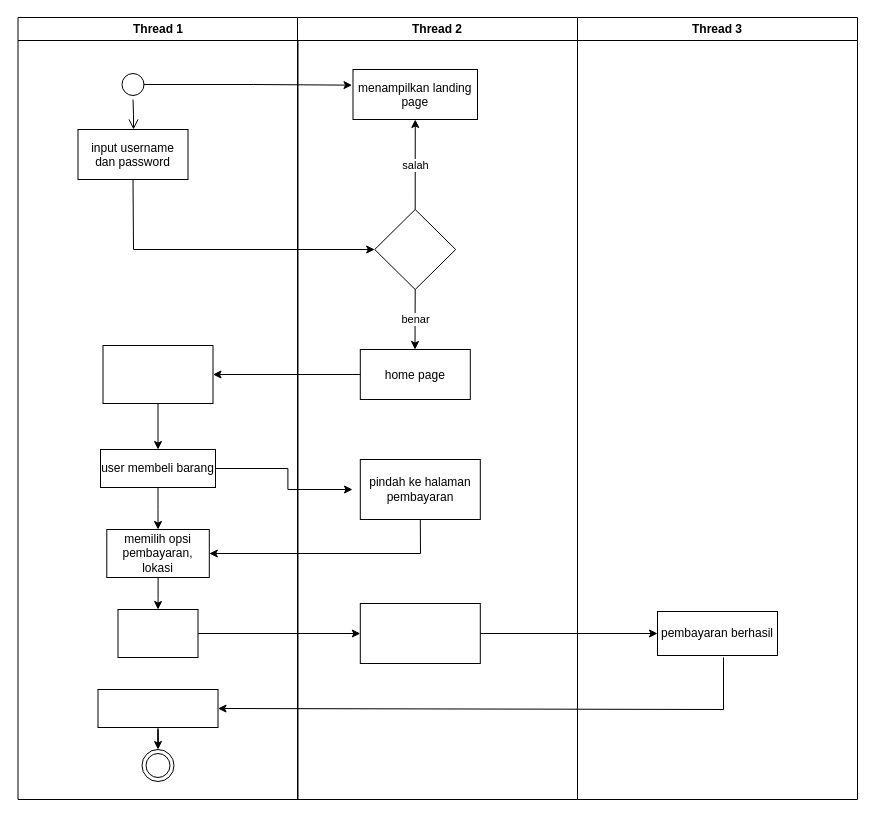
Some shapes in this 875 by 817 pixel diagram are drawn without their labels. Each missing label, with the centre of its shape:
"cek username and password" goes at [415,249].
"menunggu paket datang" goes at [157,708].
"sistem konfirmasi pembayaran barang" goes at [419,633].
"user membayar barang" goes at [157,633].
"user mengklik barang" goes at [157,374].
